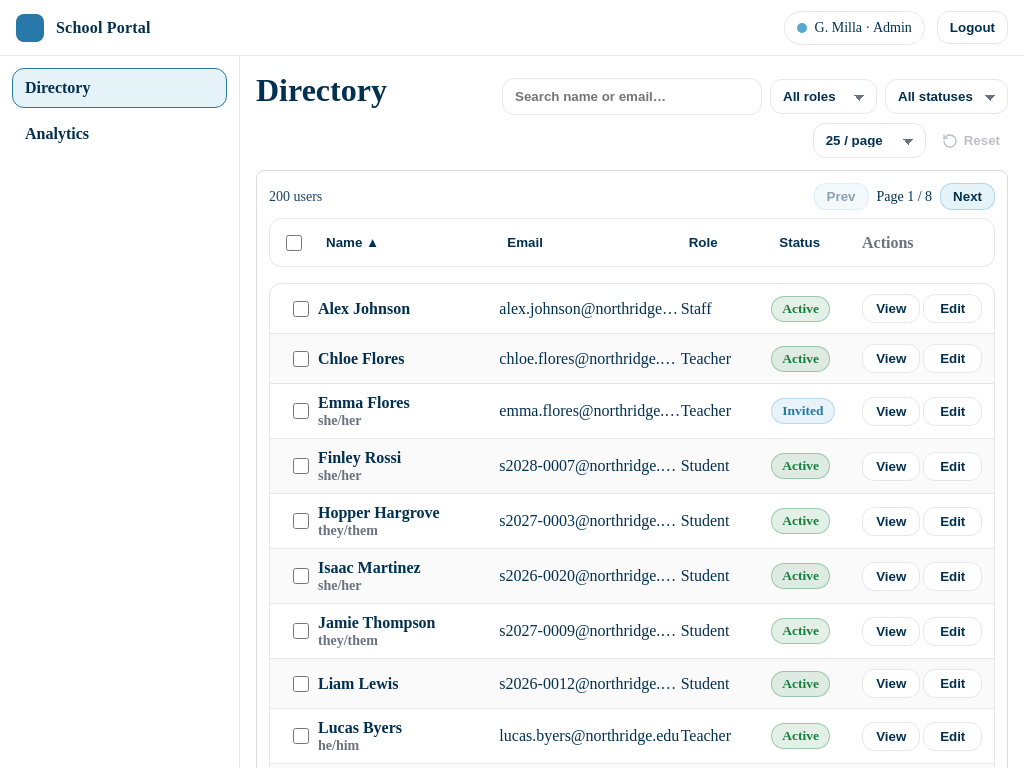
Test case: Directory selection (admin) › reset clears selection
Expected: the heading "Directory" is shown, [256,72,387,109]
Click the checkbox named "Select all rows on this page" at (294, 243), box [286,235,302,251]
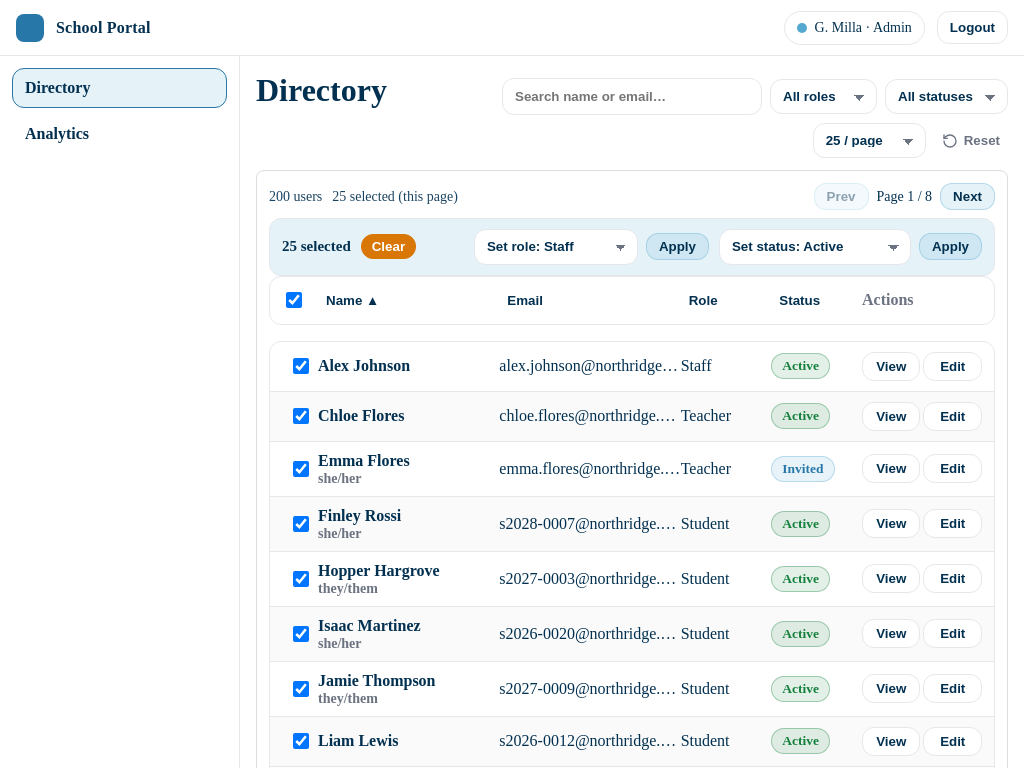
Now the text "25 selected (this page)" is shown, box [332,189,458,205]
Click the button with aria-label "reset filters" at (971, 141), box [934,127,1008,155]
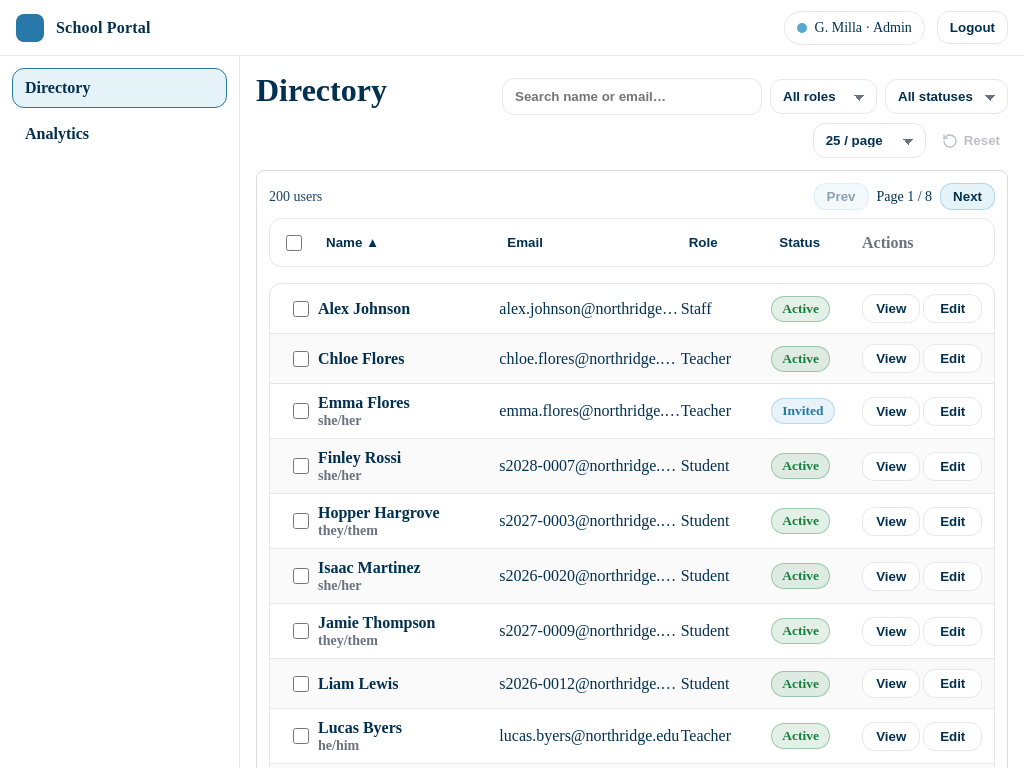
Now the text "25 selected (this page)" is gone
